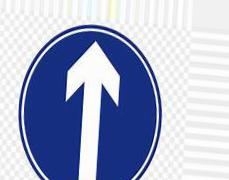forward: (18, 24, 162, 180)
